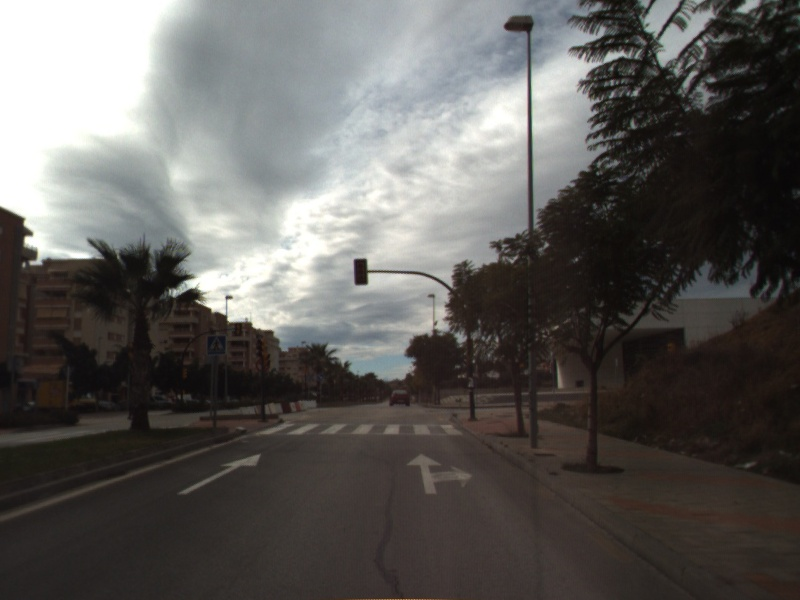STRAIGHT: (175, 452, 263, 497)
STRAIGHT_RIGHT: (404, 452, 474, 496)
